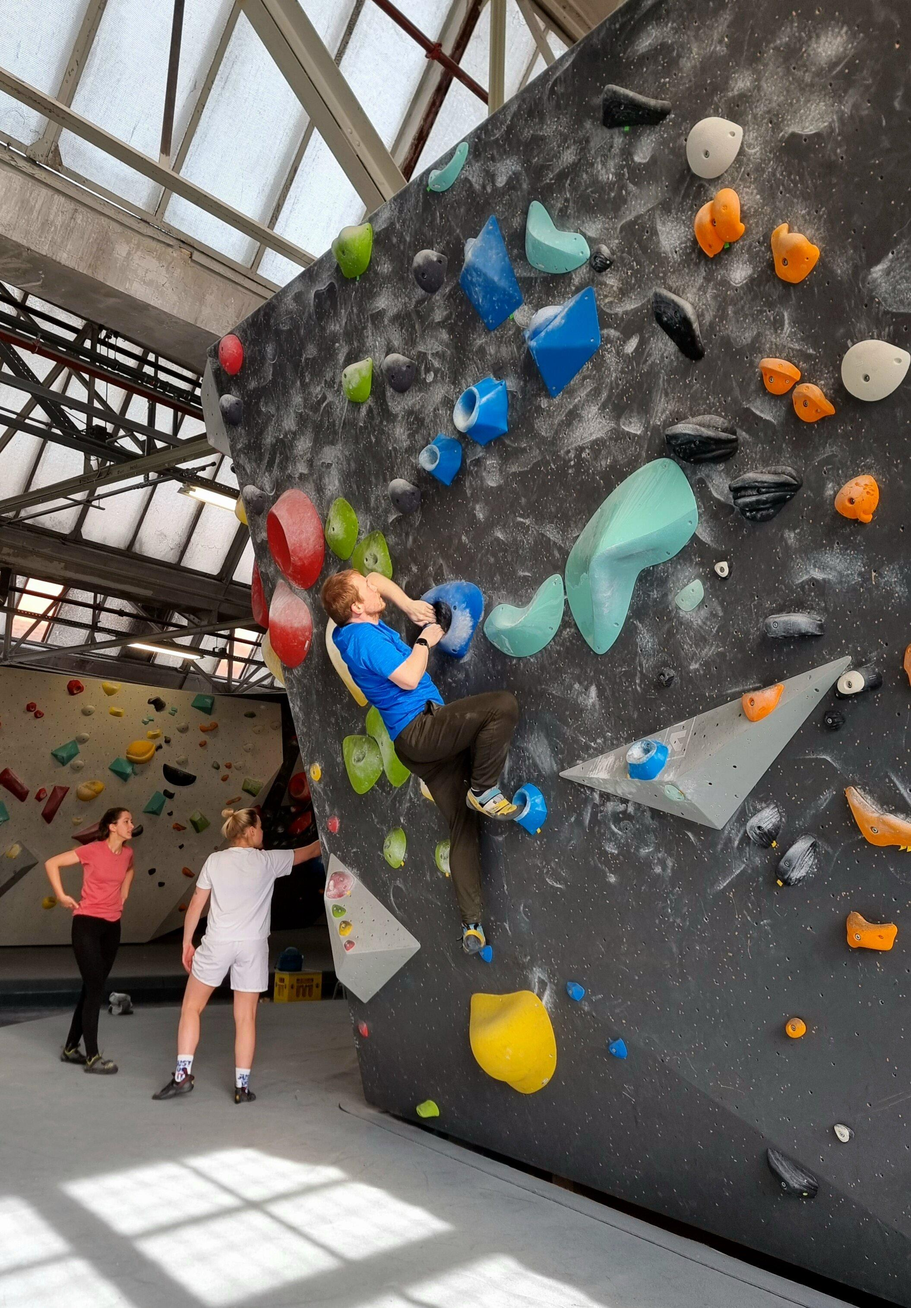black-hold: (529, 441, 722, 658), (475, 571, 588, 670), (469, 989, 558, 1096), (501, 198, 598, 291), (259, 484, 334, 596), (415, 571, 503, 665), (640, 278, 722, 367), (724, 451, 813, 531), (831, 329, 911, 412), (828, 784, 911, 862), (680, 183, 759, 260), (676, 109, 747, 186), (354, 703, 415, 791), (315, 615, 370, 711), (592, 82, 674, 145), (753, 219, 825, 290), (752, 1145, 825, 1209), (268, 579, 313, 669), (663, 413, 739, 466), (453, 376, 508, 445), (413, 427, 474, 488), (770, 828, 826, 892), (338, 729, 390, 797), (422, 138, 481, 197), (830, 466, 886, 526), (327, 221, 382, 281), (501, 779, 558, 836), (319, 495, 365, 562), (749, 346, 804, 401), (839, 910, 899, 959), (741, 801, 794, 853), (403, 244, 453, 297), (515, 295, 566, 346), (787, 376, 837, 427), (828, 661, 887, 703), (254, 628, 290, 691), (374, 349, 421, 396), (739, 682, 791, 724), (623, 737, 670, 783), (351, 530, 393, 581), (243, 562, 272, 632), (380, 474, 426, 518), (763, 611, 828, 641), (340, 355, 373, 403), (672, 576, 711, 615), (379, 824, 410, 871), (323, 867, 356, 905), (237, 482, 270, 517), (218, 334, 244, 376), (819, 705, 848, 735), (218, 393, 243, 427), (781, 1014, 810, 1043), (561, 977, 588, 1004), (652, 663, 679, 690), (831, 1118, 857, 1146), (660, 781, 687, 807), (435, 839, 451, 874), (416, 777, 435, 805), (606, 1037, 629, 1060), (415, 1098, 440, 1119), (712, 558, 734, 581), (477, 943, 499, 965), (458, 235, 476, 259), (328, 903, 348, 921), (903, 643, 911, 686), (325, 814, 341, 834), (337, 920, 354, 938), (309, 762, 322, 782), (357, 1020, 370, 1039), (341, 937, 356, 952)
